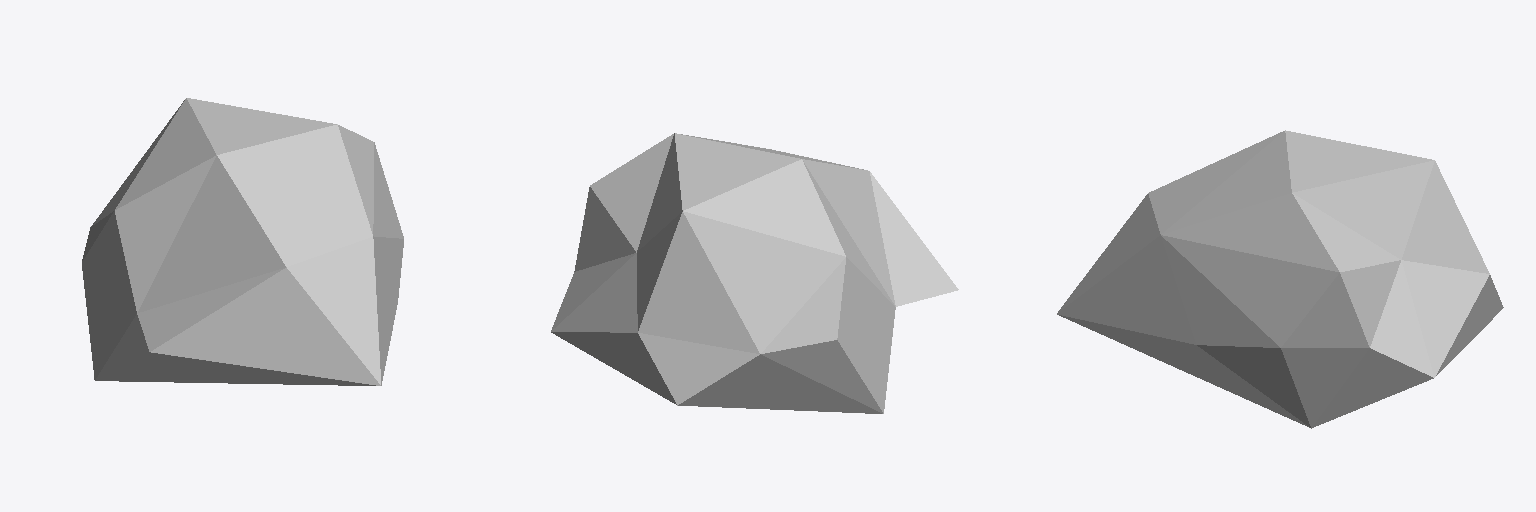
The model's file is rock.obj.
3 views of the same model, side by side, from view 1: azimuth 30°, elevation 25°; view 2: azimuth 150°, elevation 25°; view 3: azimuth 270°, elevation 25° (orthographic).
Parts seen in each view (by area): view 1: Icosphere; view 2: Icosphere; view 3: Icosphere.
Boxes of the visible parts, <box> form: Icosphere: <box>82,98,403,385</box>; Icosphere: <box>551,133,958,413</box>; Icosphere: <box>1057,130,1503,428</box>.
Bounding box in the file's own units: 1.77 × 1.23 × 2.31.